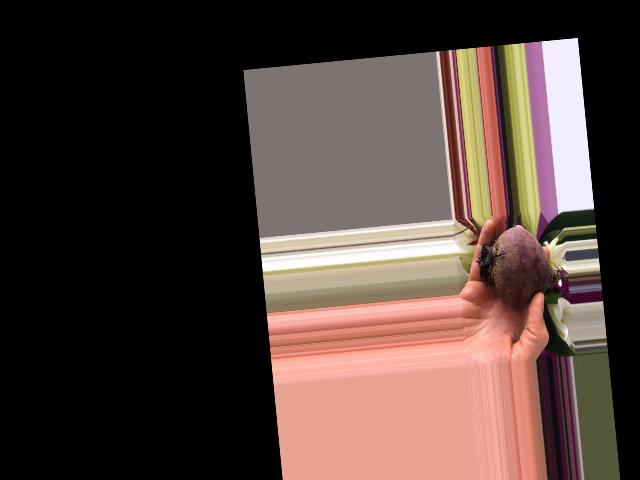beet: (472, 221, 570, 310)
